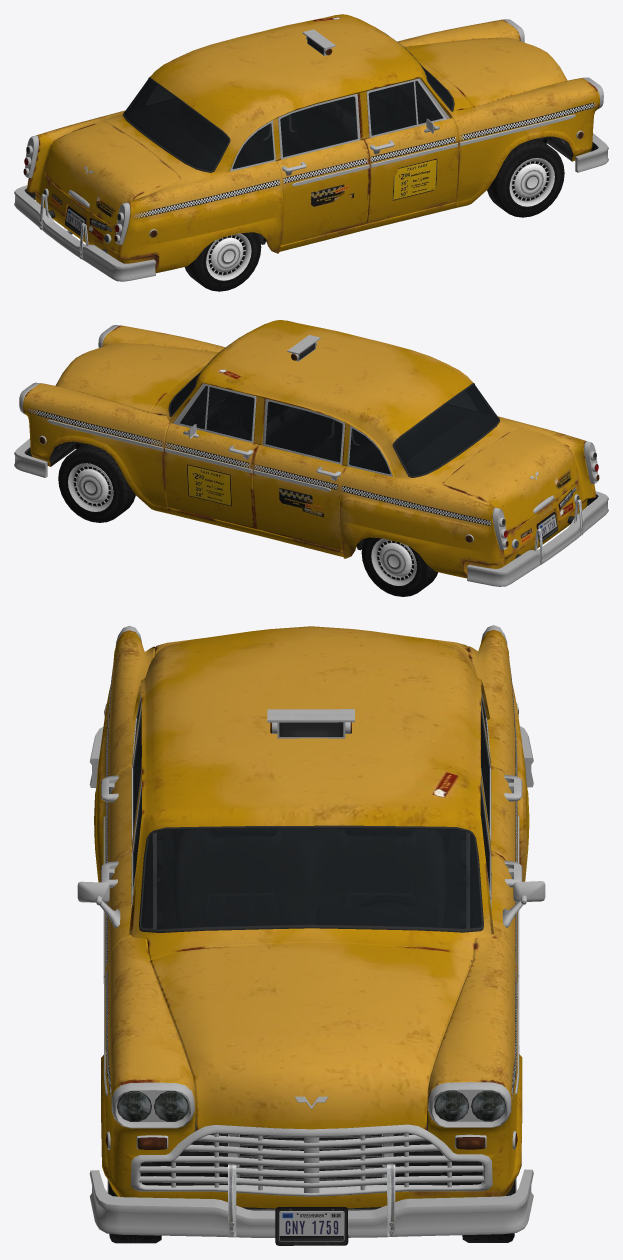
The model's file is m_car-taxi.glb.
3 views of the same model, one above another, from view 1: azimuth 30°, elevation 25°; view 2: azimuth 150°, elevation 25°; view 3: azimuth 270°, elevation 25° (orthographic). The views are drawn at different scales.
Visible parts, largest first — view 1: Canyon75_Body_Canyon75_Bodymat_0, Canyon75_Windshield_UCB_Lights_and_Glass_Transperent_0, Canyon75_Interior_UCB_Interiors_2_0, Canyon75_Suspension_UCB_BOTTOM_0, Canyon75_WheelStock_FL_RB1c_Tire_1k_0; view 2: Canyon75_Body_Canyon75_Bodymat_0, Canyon75_Windshield_UCB_Lights_and_Glass_Transperent_0, Canyon75_Interior_UCB_Interiors_2_0, Canyon75_Suspension_UCB_BOTTOM_0, Canyon75_WheelStock_FL_RB1c_Tire_1k_0; view 3: Canyon75_Body_Canyon75_Bodymat_0, Canyon75_Suspension_UCB_BOTTOM_0, Canyon75_Windshield_UCB_Lights_and_Glass_Transperent_0, Canyon75_Interior_UCB_Interiors_2_0, Canyon75_Headlights_UCB_Lights_and_Glass_0, Canyon75_Numberplate_Rear_Numberplates_Misk_U_0, Canyon75_WheelStock_FL_RB1c_Tire_1k_0.
Part boxes in pixels (box(x1,y1,x2,y2)): Canyon75_Body_Canyon75_Bodymat_0: box(26, 14, 599, 272); Canyon75_Windshield_UCB_Lights_and_Glass_Transperent_0: box(124, 66, 452, 171); Canyon75_Interior_UCB_Interiors_2_0: box(124, 71, 452, 170); Canyon75_Suspension_UCB_BOTTOM_0: box(14, 19, 608, 281); Canyon75_WheelStock_FL_RB1c_Tire_1k_0: box(184, 138, 564, 291); Canyon75_Body_Canyon75_Bodymat_0: box(23, 320, 596, 578); Canyon75_Windshield_UCB_Lights_and_Glass_Transperent_0: box(170, 372, 498, 476); Canyon75_Interior_UCB_Interiors_2_0: box(170, 376, 498, 475); Canyon75_Suspension_UCB_BOTTOM_0: box(14, 325, 608, 586); Canyon75_WheelStock_FL_RB1c_Tire_1k_0: box(58, 444, 437, 596); Canyon75_Body_Canyon75_Bodymat_0: box(94, 626, 529, 1208); Canyon75_Suspension_UCB_BOTTOM_0: box(77, 625, 545, 1245); Canyon75_Windshield_UCB_Lights_and_Glass_Transperent_0: box(132, 697, 490, 929); Canyon75_Interior_UCB_Interiors_2_0: box(134, 720, 488, 928); Canyon75_Headlights_UCB_Lights_and_Glass_0: box(117, 1090, 505, 1121); Canyon75_Numberplate_Rear_Numberplates_Misk_U_0: box(279, 1211, 344, 1241); Canyon75_WheelStock_FL_RB1c_Tire_1k_0: box(107, 1177, 516, 1243).
Bounding box in the file's own units: 5.31 × 1.83 × 2.13.
Materials: 8 (8 with a texture image).
